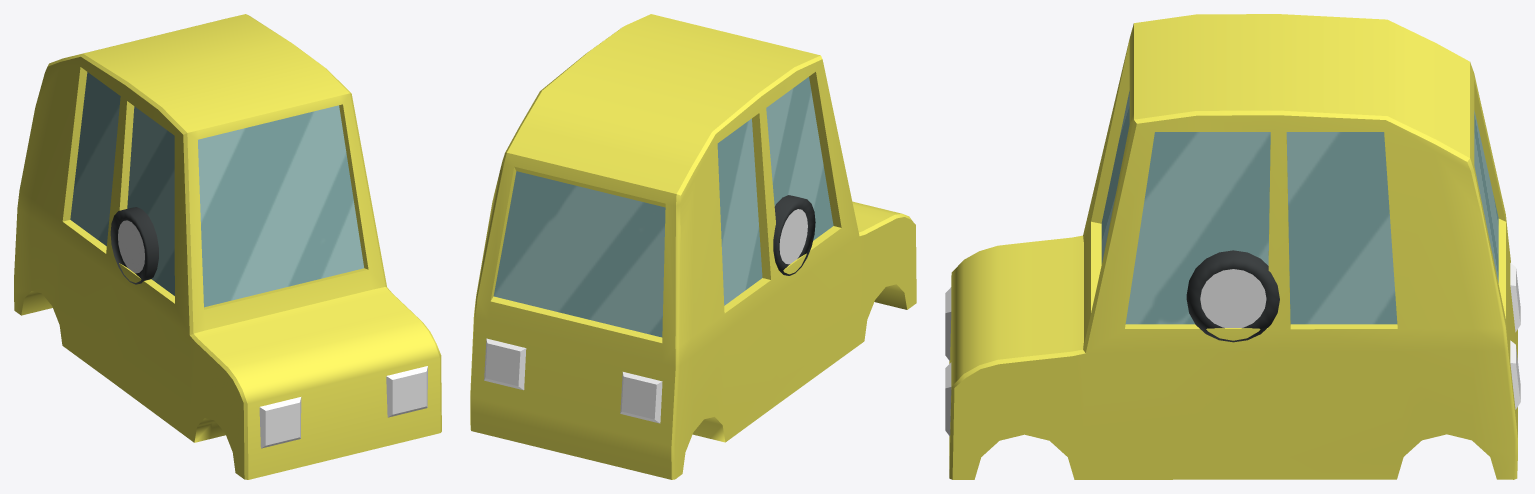
Rendered from car_4_Y.fbx.
3 renders of one model, left to right at view 1: azimuth 30°, elevation 25°; view 2: azimuth 150°, elevation 25°; view 3: azimuth 270°, elevation 25°, orthographic. The views are drawn at different scales.
Visible parts, largest first — view 1: car_4_chasis_Y, car_4_back_wheel_Y, car_4_right_wheel_Y; view 2: car_4_chasis_Y, car_4_back_wheel_Y; view 3: car_4_chasis_Y, car_4_left_wheel_Y.
Boxes of the visible parts, x1,y1,x2,y2 form: car_4_chasis_Y: [14, 14, 441, 479]; car_4_back_wheel_Y: [110, 207, 157, 284]; car_4_right_wheel_Y: [126, 207, 158, 281]; car_4_chasis_Y: [470, 14, 916, 479]; car_4_back_wheel_Y: [773, 195, 815, 275]; car_4_chasis_Y: [945, 14, 1520, 479]; car_4_left_wheel_Y: [1186, 250, 1279, 342].
Size of the model in its own units: 81.53 by 117 by 169.
